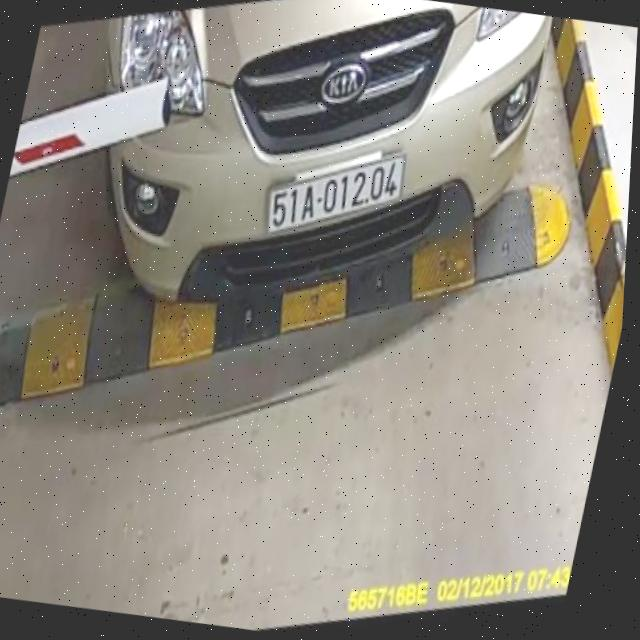car: (48, 0, 569, 364)
plate: (253, 133, 418, 256)
